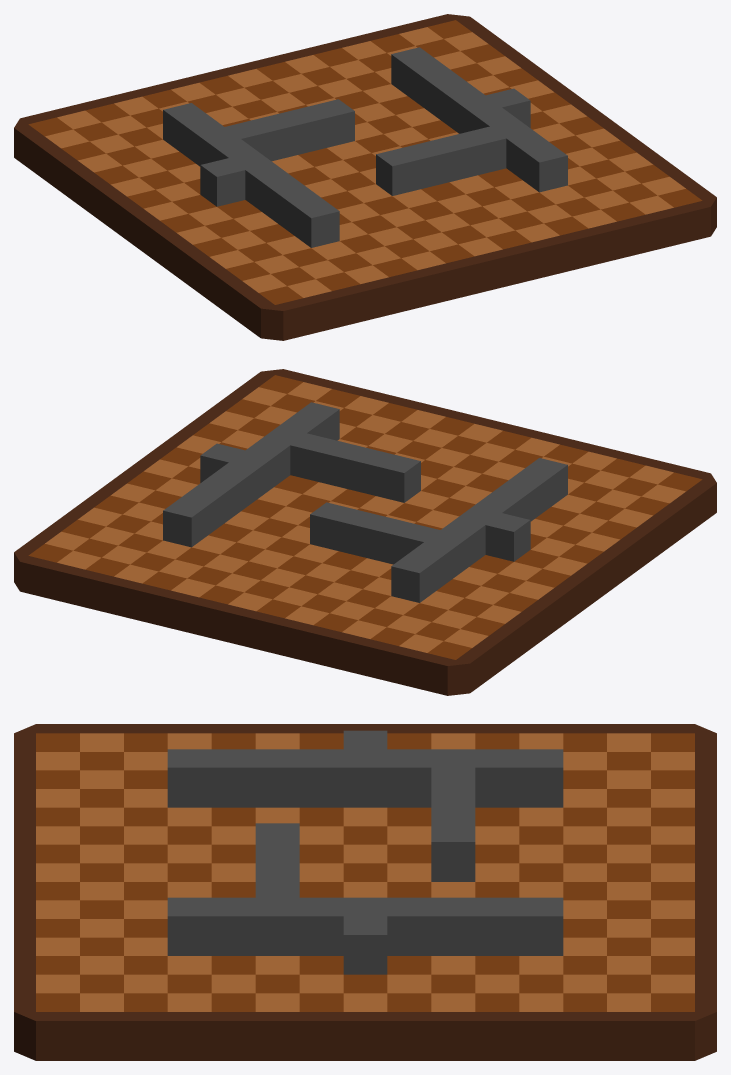
The model's file is chess_board.fbx.
3 renders of one model, top to bottom at view 1: azimuth 30°, elevation 25°; view 2: azimuth 150°, elevation 25°; view 3: azimuth 270°, elevation 25°, orthographic. The views are drawn at different scales.
Parts seen in each view (by area): view 1: Cube; view 2: Cube; view 3: Cube.
Part boxes in pixels (box(x1,y1,x2,y2)): Cube: box(14, 14, 716, 340); Cube: box(14, 369, 716, 695); Cube: box(14, 724, 716, 1060).
Bounding box in the file's own units: 3200 × 400 × 3200.
